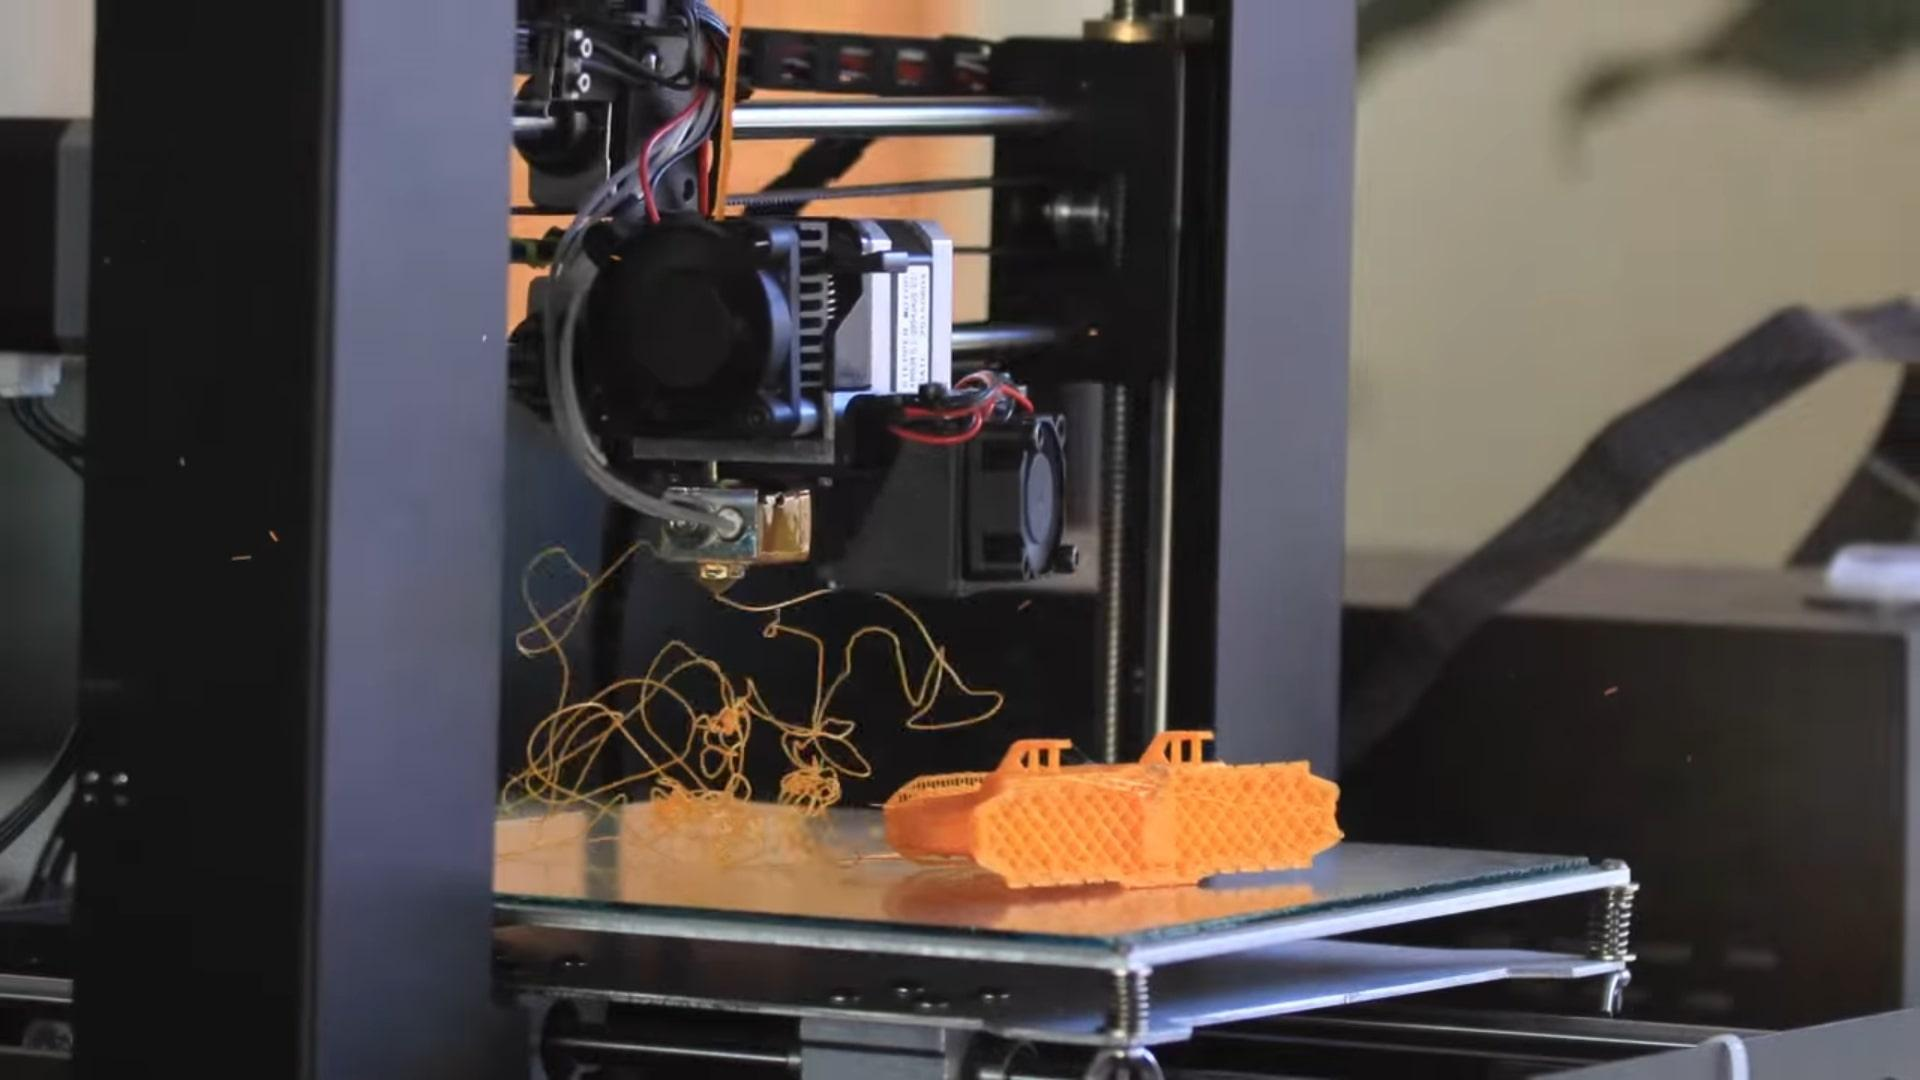Printing-Artifact: (509, 521, 885, 886)
